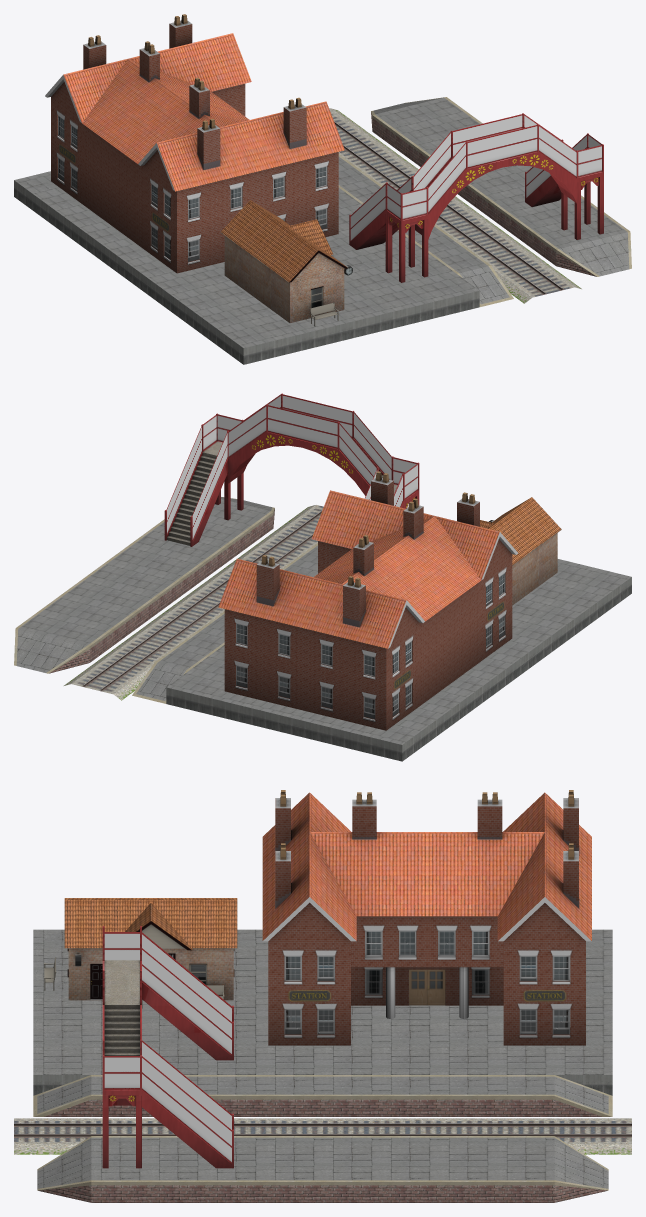
Rendered from Station3.fbx.
3 renders of one model, top to bottom at view 1: azimuth 30°, elevation 25°; view 2: azimuth 150°, elevation 25°; view 3: azimuth 270°, elevation 25°, orthographic. The views are drawn at different scales.
Visible parts, largest first — view 1: U3DMesh; view 2: U3DMesh; view 3: U3DMesh.
Boxes of the visible parts, x1,y1,x2,y2 form: U3DMesh: [14, 14, 631, 364]; U3DMesh: [14, 393, 631, 761]; U3DMesh: [14, 790, 631, 1202].
Size of the model in its own units: 30.9 by 12.06 by 32.
